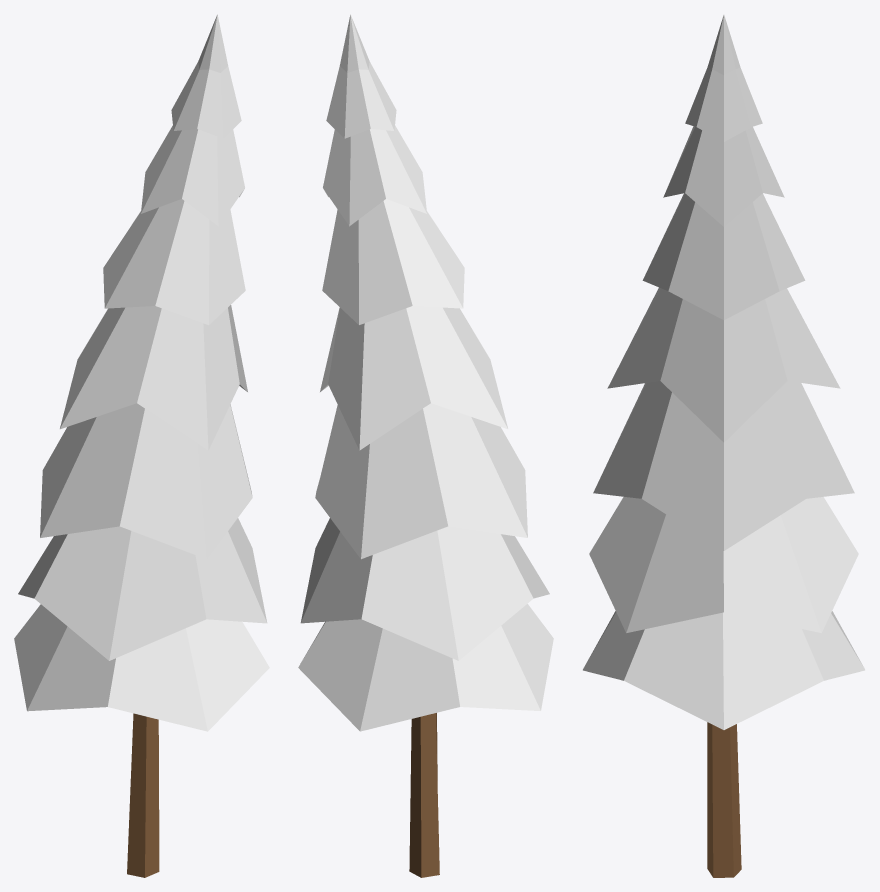
Rendered from Pine_Tree_OneSided_l_Snow_05_LOD.fbx.
The picture shows the model from 3 angles, left to right: view 1: azimuth 30°, elevation 25°; view 2: azimuth 150°, elevation 25°; view 3: azimuth 270°, elevation 25°; orthographic projection. The views are drawn at different scales.
Visible parts, largest first — view 1: Pine_Tree_OneSided_l_Snow_05_LOD0; view 2: Pine_Tree_OneSided_l_Snow_05_LOD0; view 3: Pine_Tree_OneSided_l_Snow_05_LOD0.
Part boxes in pixels (x1=…): Pine_Tree_OneSided_l_Snow_05_LOD0: x1=14, y1=14, x2=269, y2=877; Pine_Tree_OneSided_l_Snow_05_LOD0: x1=298, y1=14, x2=553, y2=877; Pine_Tree_OneSided_l_Snow_05_LOD0: x1=583, y1=15, x2=864, y2=877.
Size of what is drawn, in the model's own units: 558 by 1950 by 558.
